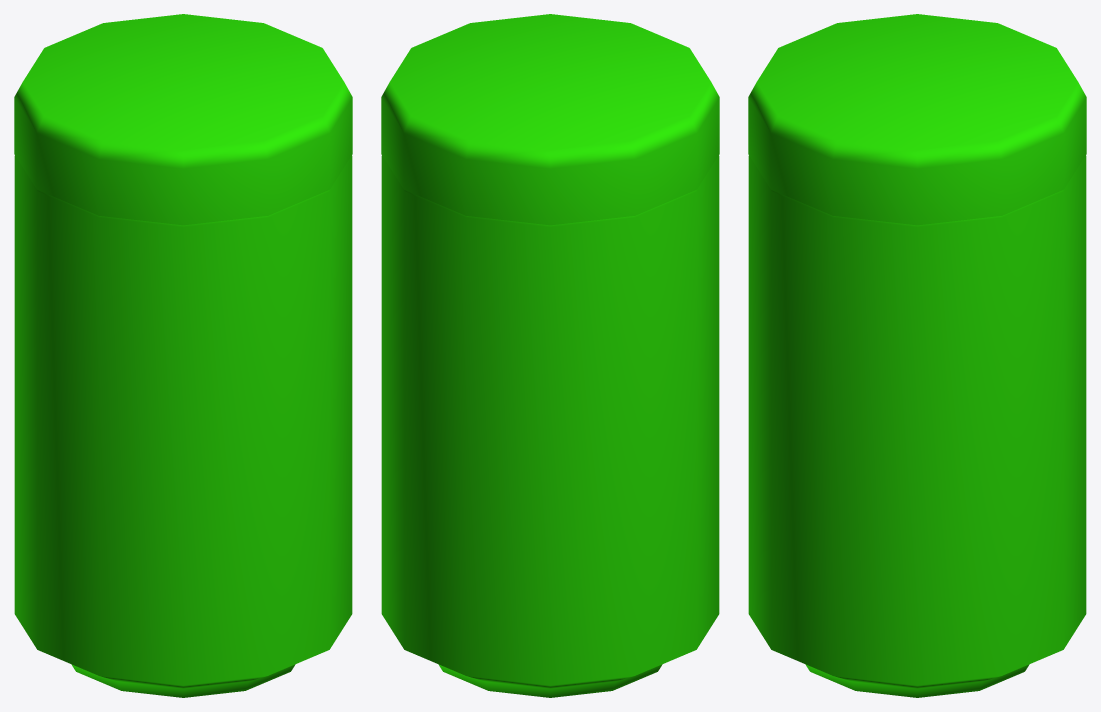
Rendered from Pot_05_Lod0.fbx.
The picture shows the model from 3 angles, left to right: view 1: azimuth 30°, elevation 25°; view 2: azimuth 150°, elevation 25°; view 3: azimuth 270°, elevation 25°; orthographic projection.
Parts seen in each view (by area): view 1: Pot_05_Lod0; view 2: Pot_05_Lod0; view 3: Pot_05_Lod0.
Part boxes in pixels (x1,y1,x2,y2): Pot_05_Lod0: (14,14,352,697); Pot_05_Lod0: (381,14,719,697); Pot_05_Lod0: (748,14,1086,697).
Bounding box in the file's own units: 20.23 × 37.15 × 20.23.
